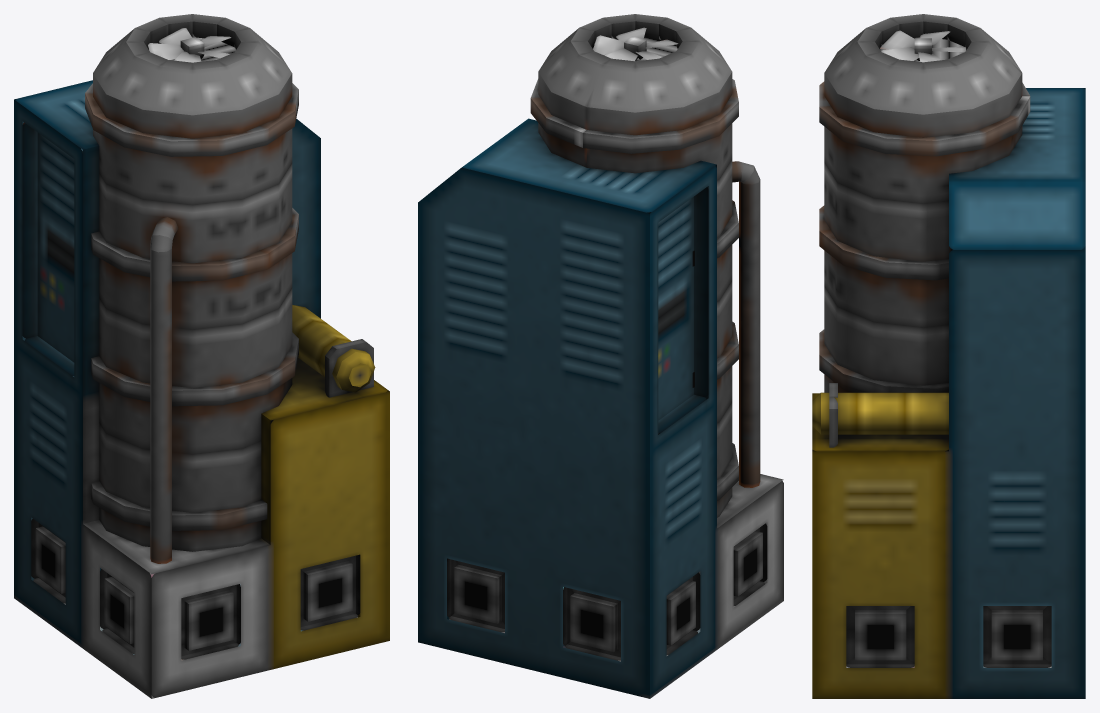
Rendered from atmo_vent.obj.
3 views of the same model, side by side, from view 1: azimuth 30°, elevation 25°; view 2: azimuth 150°, elevation 25°; view 3: azimuth 270°, elevation 25° (orthographic). The views are drawn at different scales.
Parts seen in each view (by area): view 1: Body_Cylinder, Fan_Cylinder.001; view 2: Body_Cylinder, Fan_Cylinder.001; view 3: Body_Cylinder, Fan_Cylinder.001.
Part boxes in pixels (<box>): Body_Cylinder: <box>14,14,389,698</box>; Fan_Cylinder.001: <box>148,28,231,62</box>; Body_Cylinder: <box>418,14,783,698</box>; Fan_Cylinder.001: <box>593,27,678,61</box>; Body_Cylinder: <box>812,14,1085,698</box>; Fan_Cylinder.001: <box>880,30,965,62</box>.
Bounding box in the file's own units: 2 × 4.75 × 2.
